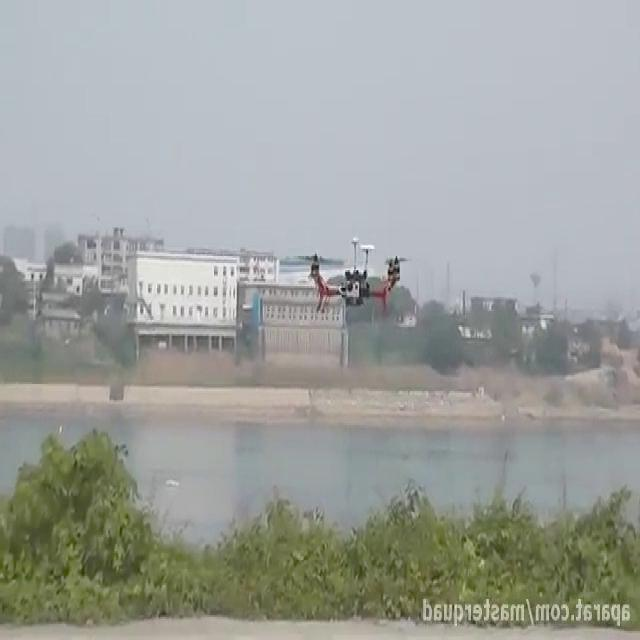drone: (294, 232, 414, 318)
